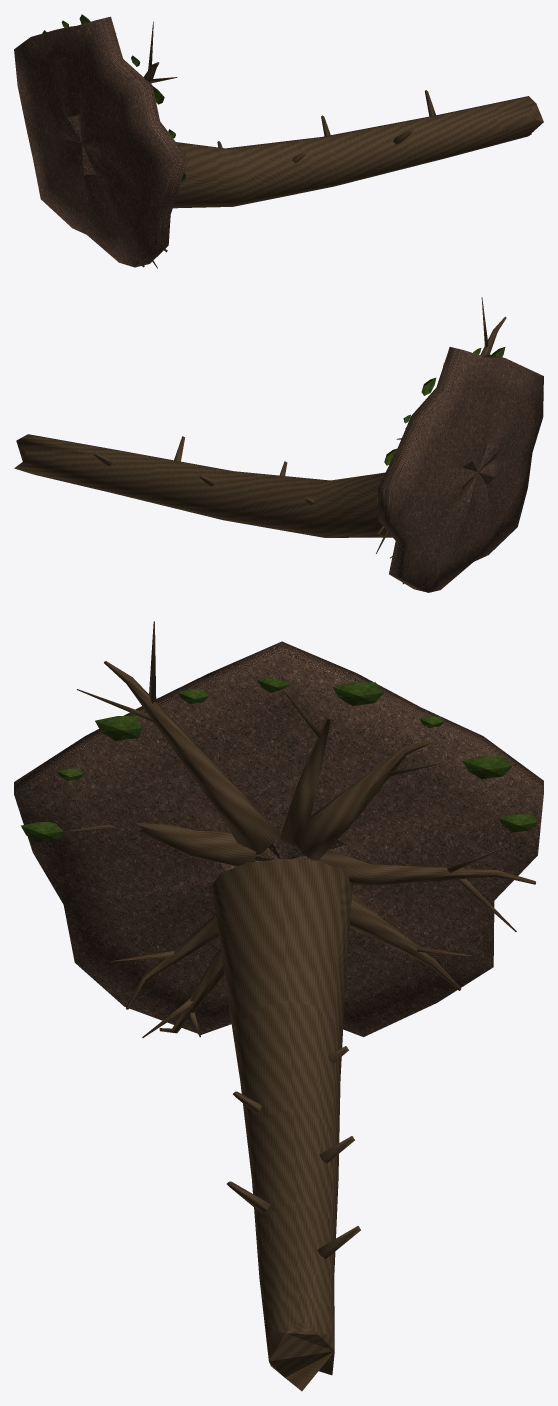
Rendered from SS_WindthrowBase_Weathered_01_LOD1.fbx.
3 views of the same model, one above another, from view 1: azimuth 30°, elevation 25°; view 2: azimuth 150°, elevation 25°; view 3: azimuth 270°, elevation 25° (orthographic). The views are drawn at different scales.
Visible parts, largest first — view 1: SS_WindthrowBase_Weathered_01_LOD1_Structure; view 2: SS_WindthrowBase_Weathered_01_LOD1_Structure; view 3: SS_WindthrowBase_Weathered_01_LOD1_Structure.
Part boxes in pixels (bbox=[...]): SS_WindthrowBase_Weathered_01_LOD1_Structure: bbox=[14, 14, 543, 268]; SS_WindthrowBase_Weathered_01_LOD1_Structure: bbox=[14, 297, 543, 592]; SS_WindthrowBase_Weathered_01_LOD1_Structure: bbox=[14, 621, 543, 1391].
Size of the model in its own units: 556 by 285 by 325.
